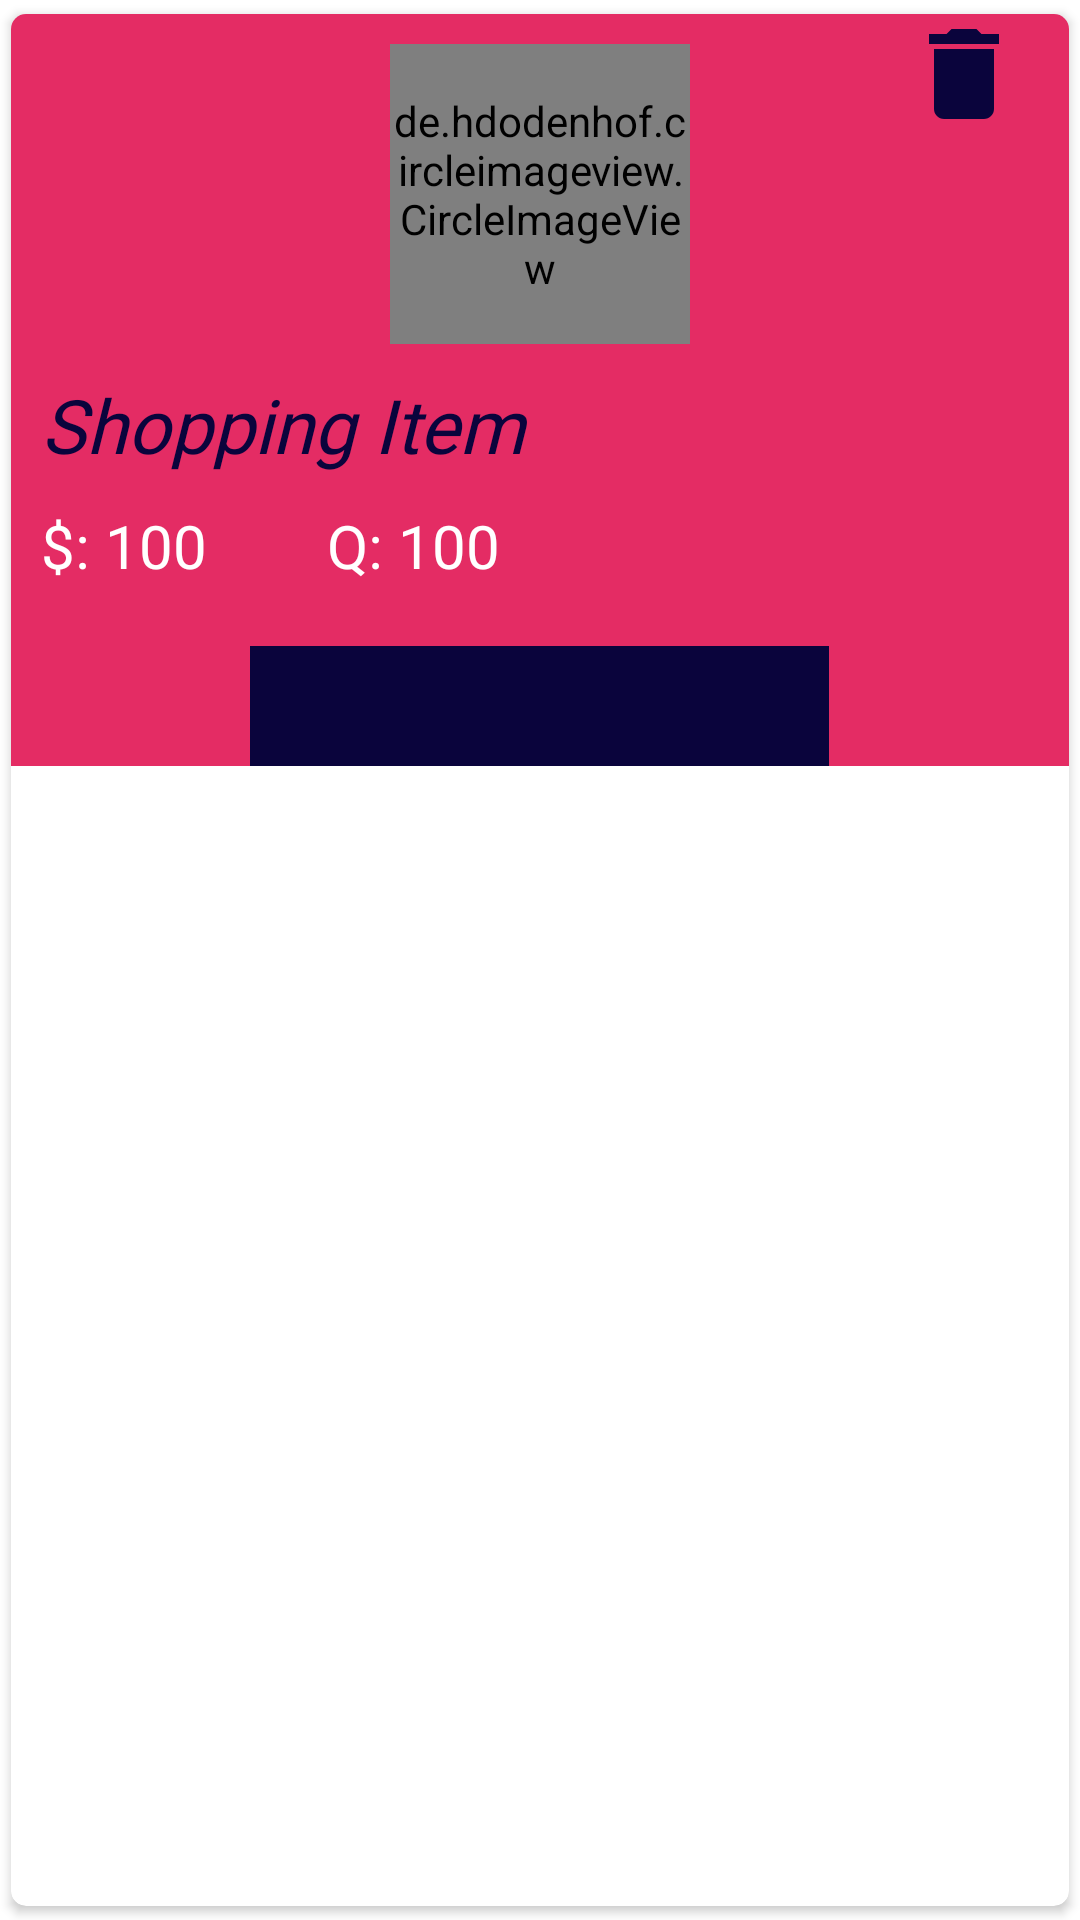

Icons on this 1080*1920 Android screen, each with the point to tap as point (x, y):
delete: point (964, 74)
